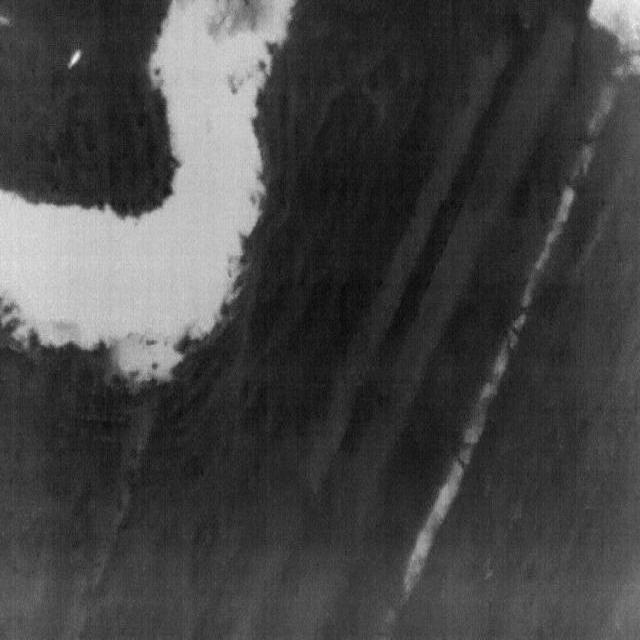deer: (68, 50, 82, 67), (0, 16, 11, 25)
